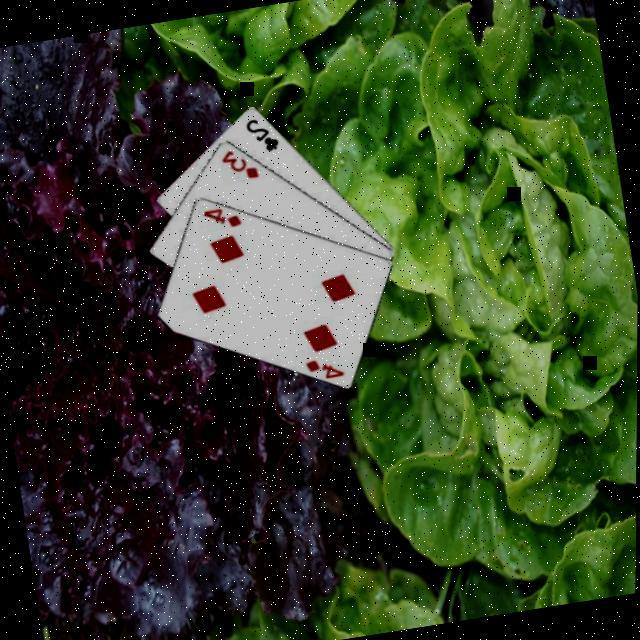2C: (242, 110, 284, 154)
3D: (218, 140, 264, 184)
4D: (200, 200, 246, 232), (302, 350, 348, 382)
